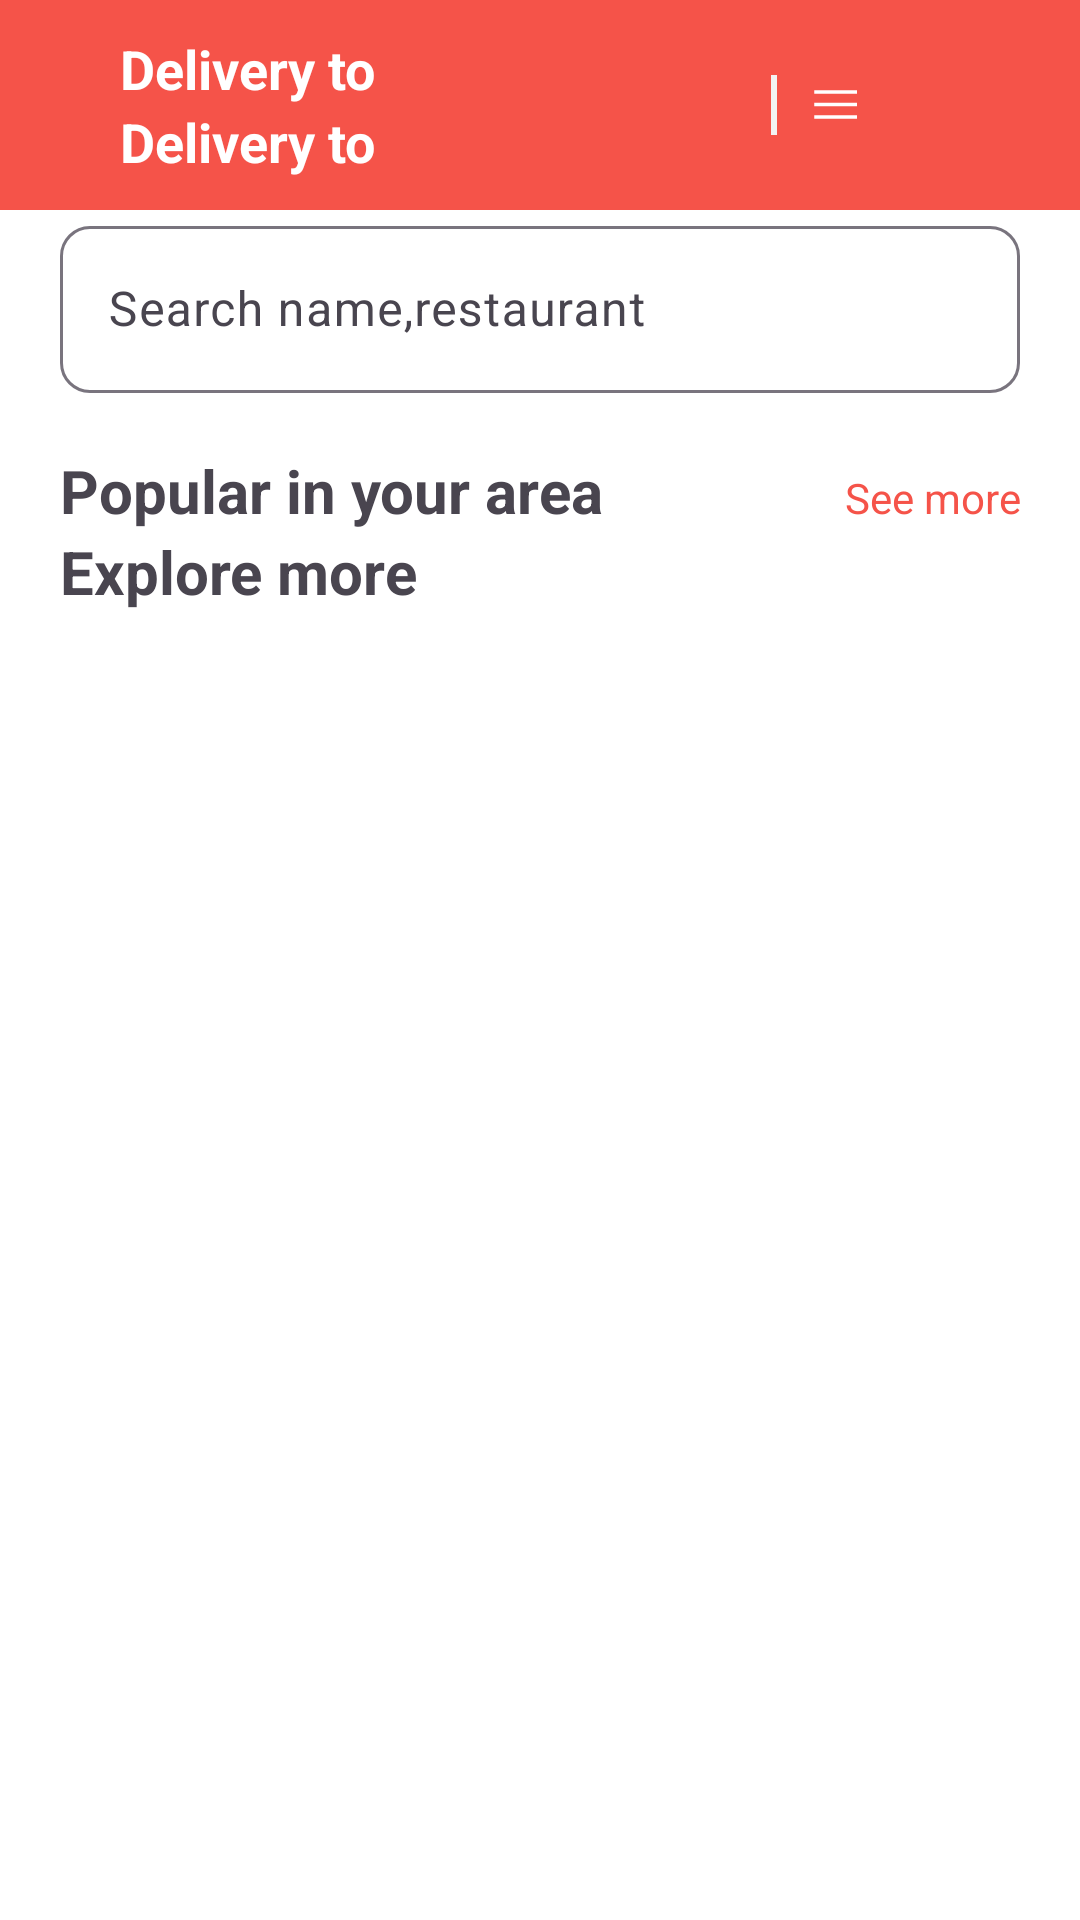

Where to tap for icons on this 1080px x 1920px app screen, as (x=x, y=y):
menu: (x=835, y=104)
